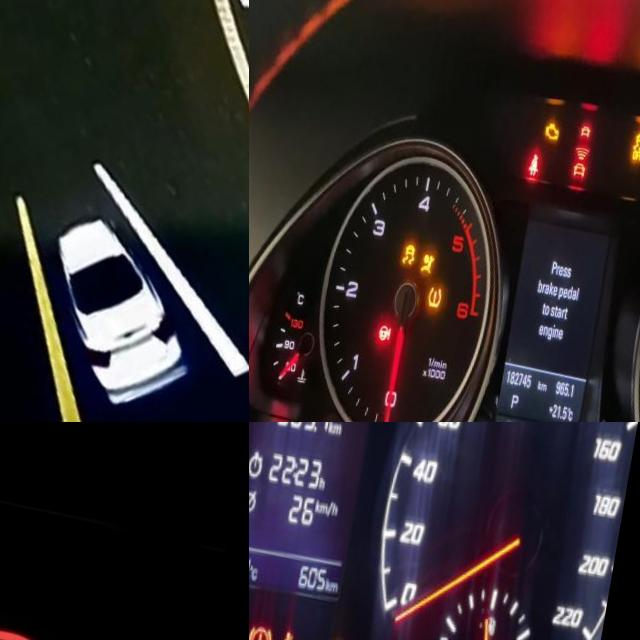Seat Belt: (289, 611, 315, 640)
